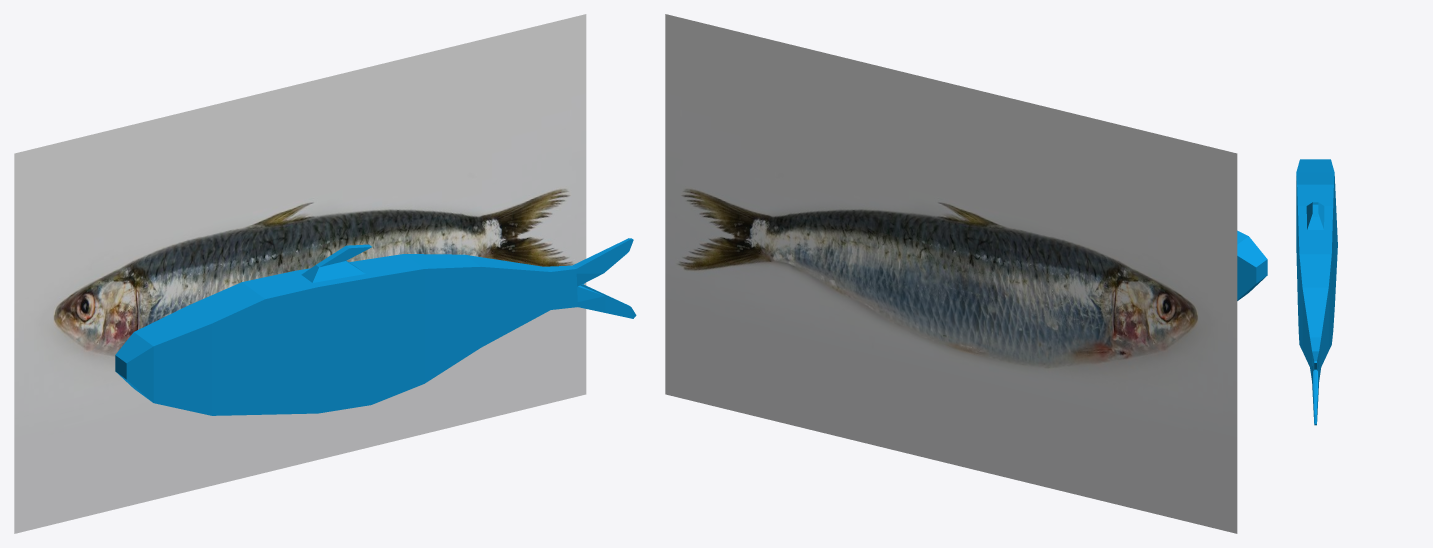
File: test_fish.glb
The picture shows the model from 3 angles, left to right: view 1: azimuth 30°, elevation 25°; view 2: azimuth 150°, elevation 25°; view 3: azimuth 270°, elevation 25°; orthographic projection. The views are drawn at different scales.
Visible parts, largest first — view 1: Plane, Cube; view 2: Plane, Cube; view 3: Cube.
Boxes of the visible parts, x1,y1,x2,y2 form: Plane: (14, 14, 586, 533); Cube: (115, 238, 636, 415); Plane: (665, 14, 1237, 533); Cube: (1237, 230, 1267, 300); Cube: (1296, 159, 1337, 425).
Size of the model in its own units: 15.15 by 9.63 by 3.56.
2 materials, 1 textured.
